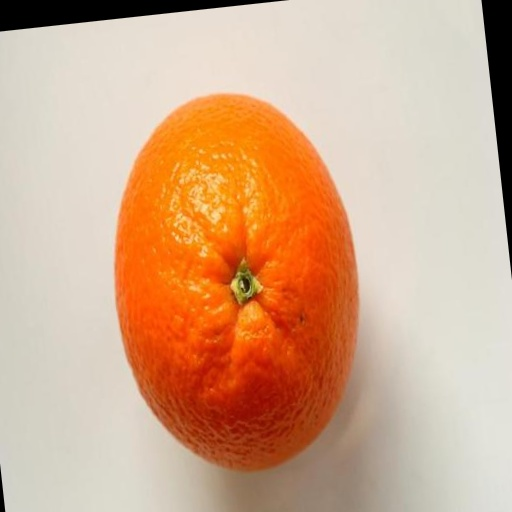fruit: (115, 95, 358, 470)
